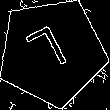L_SE: (27, 23, 77, 82)
